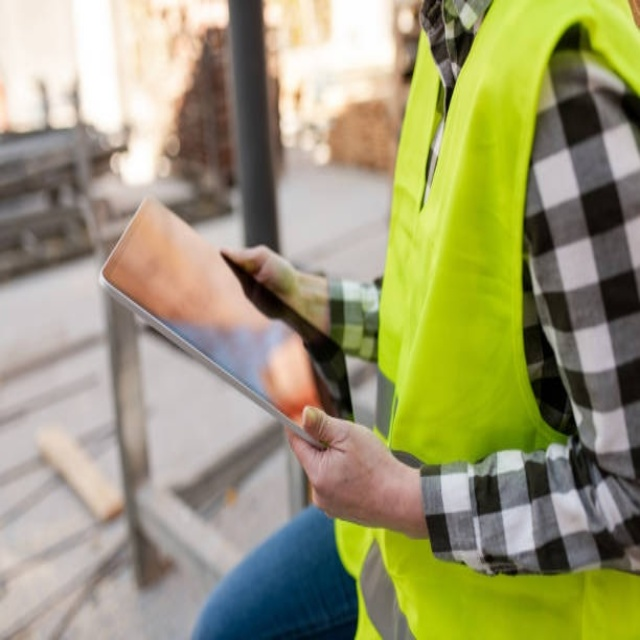Sin_guantes: (281, 405, 404, 529), (221, 242, 328, 337)
